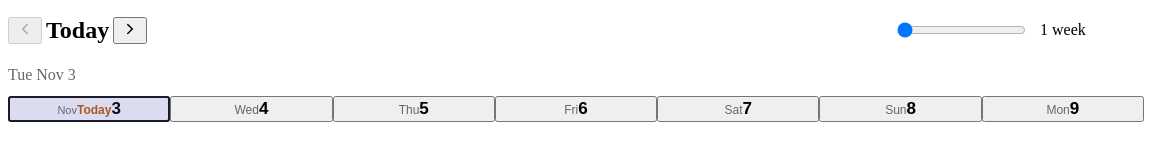
picks a single day from the keyboard and moves focus with arrows
Step 1. Press ArrowRight in the button with aria-label "Today, Tuesday November 3rd", box [8,96,170,122]
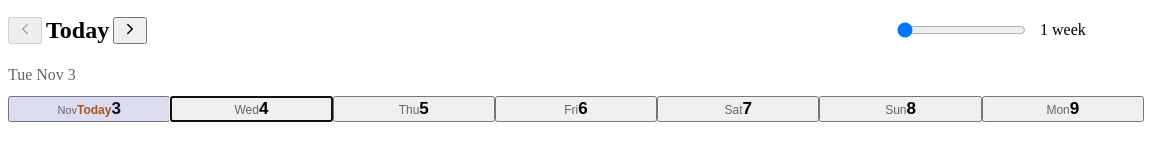
Step 2. Click the button with aria-label "Wednesday November 4th" → (251, 109), box [170,96,333,122]
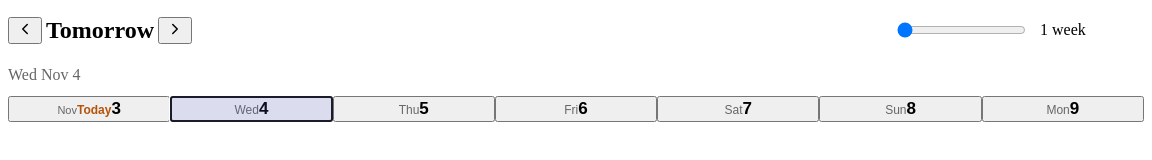
Expected: the heading reads "Tomorrow", [46,17,154,43]
